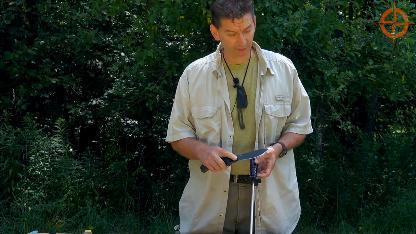knife: (199, 140, 269, 173)
